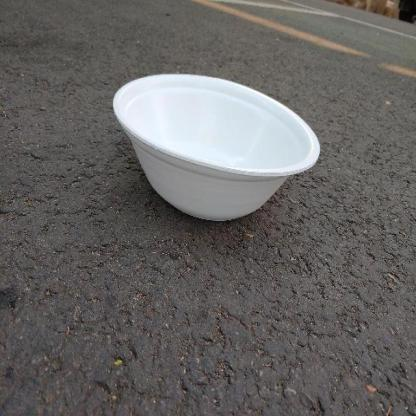Glass Cup: (113, 72, 321, 223), (113, 74, 320, 220)
